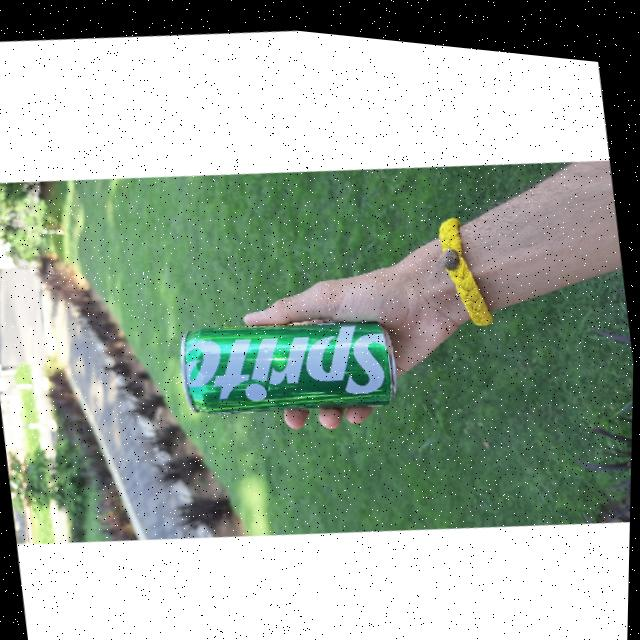Sprite: (174, 301, 401, 429)
